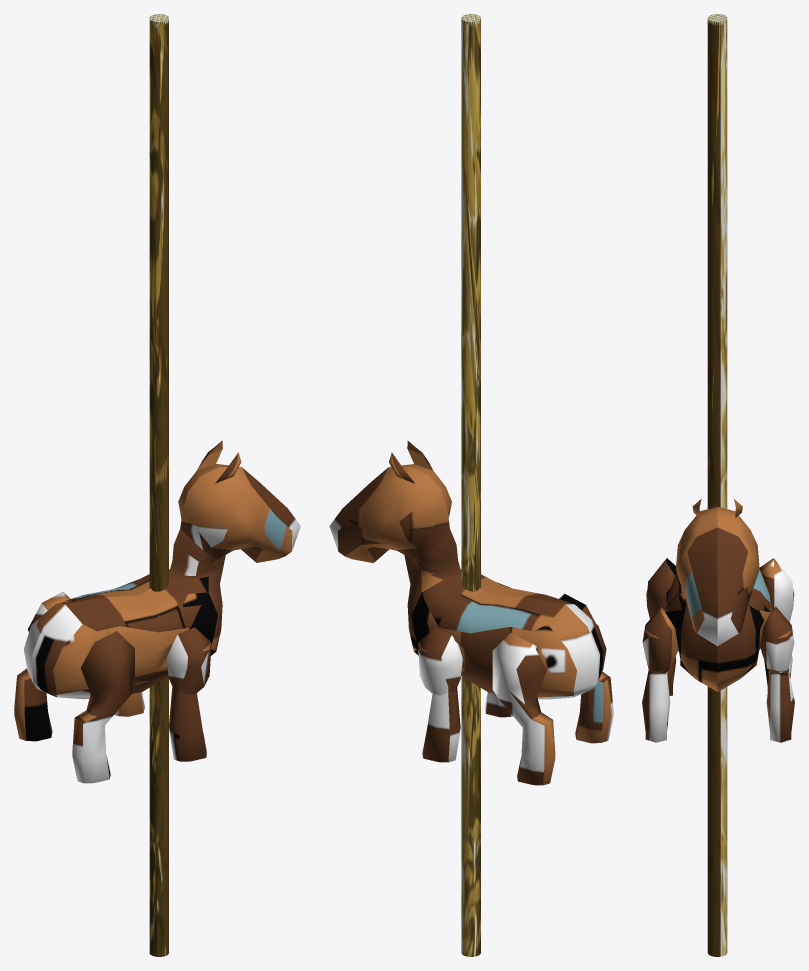
Rendered from caballoP.obj.
3 views of the same model, side by side, from view 1: azimuth 30°, elevation 25°; view 2: azimuth 150°, elevation 25°; view 3: azimuth 270°, elevation 25° (orthographic).
Parts seen in each view (by area): view 1: pCube17, Palo:pCylinder4; view 2: pCube17, Palo:pCylinder4; view 3: pCube17, Palo:pCylinder4.
Boxes of the visible parts, left/top/right/bottom form: pCube17: left=14, top=440, right=300, bottom=783; Palo:pCylinder4: left=149, top=14, right=168, bottom=956; pCube17: left=329, top=440, right=613, bottom=785; Palo:pCylinder4: left=461, top=14, right=480, bottom=956; pCube17: left=642, top=499, right=794, bottom=742; Palo:pCylinder4: left=707, top=14, right=727, bottom=956.
Bounding box in the file's own units: 12.87 × 42.69 × 6.33.
